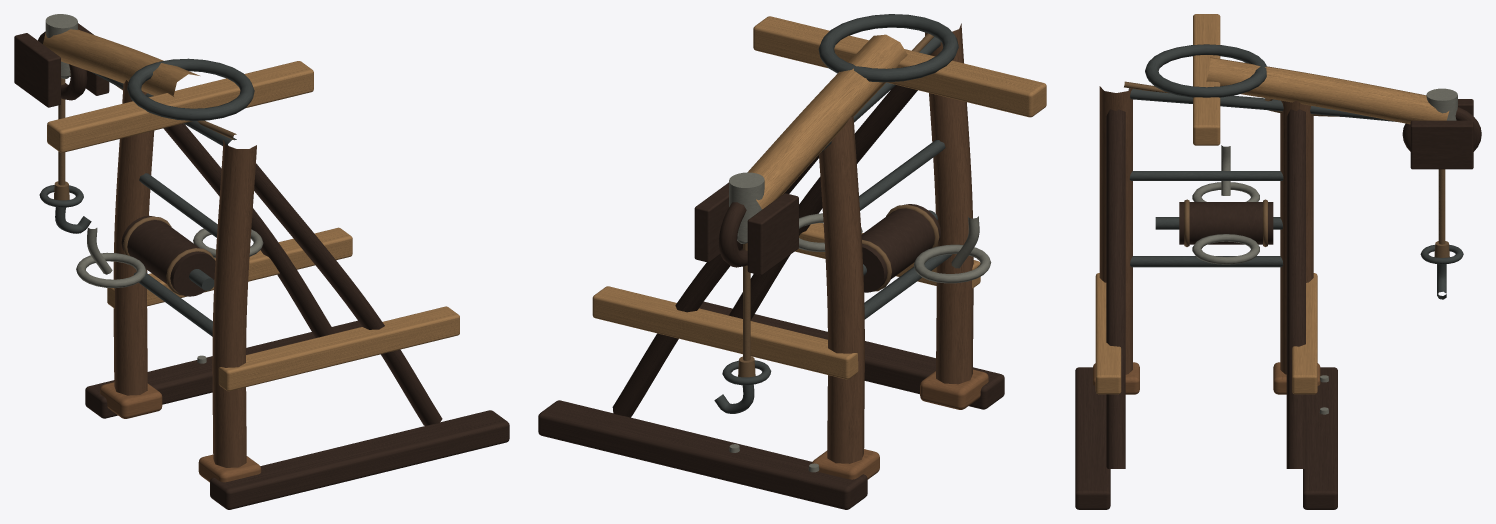
Rendered from dock_crane.glb.
3 views of the same model, side by side, from view 1: azimuth 30°, elevation 25°; view 2: azimuth 150°, elevation 25°; view 3: azimuth 270°, elevation 25° (orthographic). The views are drawn at different scales.
Parts seen in each view (by area): view 1: dock_crane; view 2: dock_crane; view 3: dock_crane.
Part boxes in pixels (<box>): dock_crane: <box>14,14,509,509</box>; dock_crane: <box>538,14,1046,509</box>; dock_crane: <box>1075,14,1481,509</box>.
Size of the model in its own units: 2.8 by 2.6 by 2.8.
Materials: 1 (1 with a texture image).
